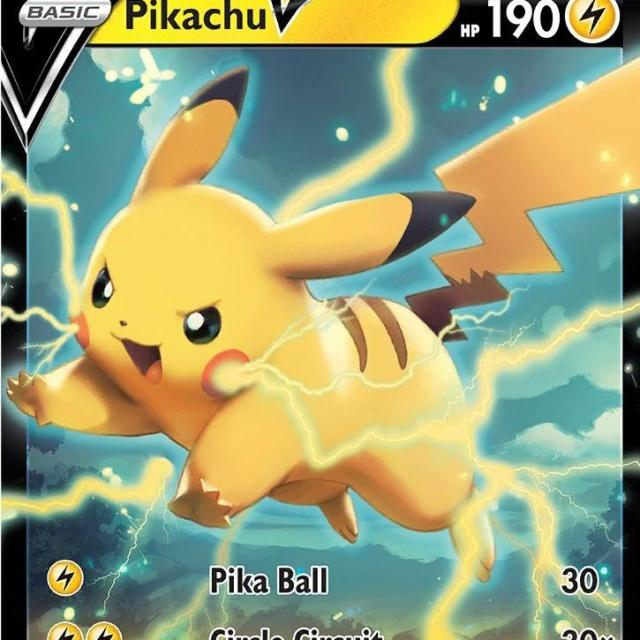pikachu: (4, 55, 640, 582)
